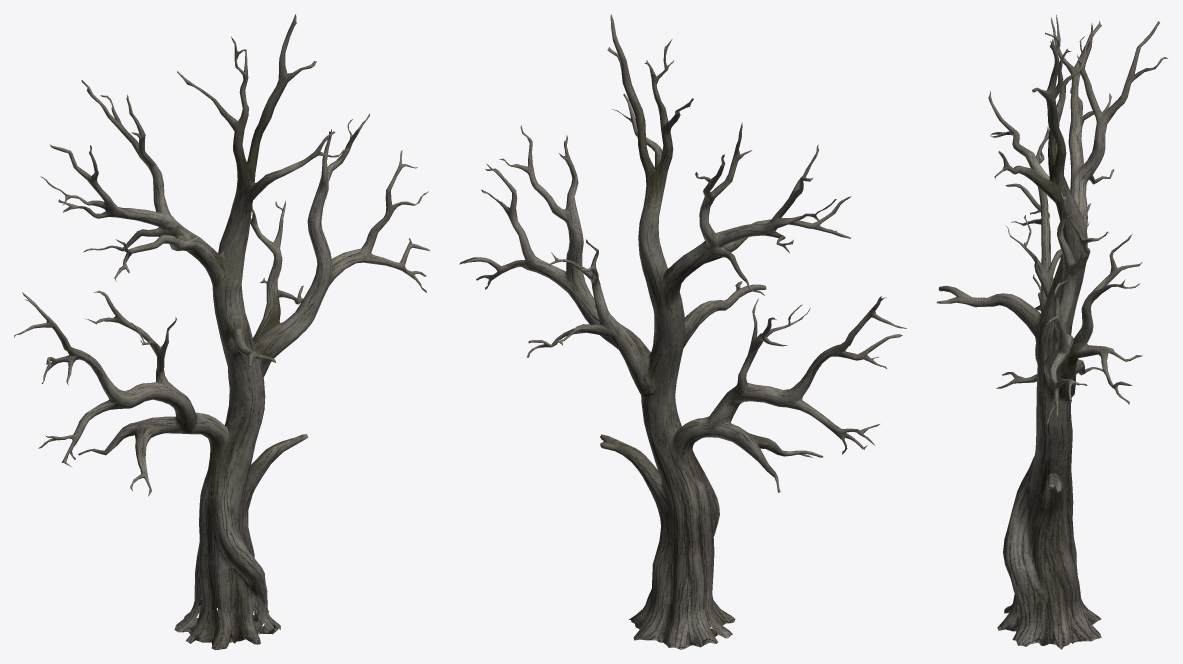
The model's file is tree_dead.glb.
The picture shows the model from 3 angles, left to right: view 1: azimuth 30°, elevation 25°; view 2: azimuth 150°, elevation 25°; view 3: azimuth 270°, elevation 25°; orthographic projection. The views are drawn at different scales.
Size of the model in its own units: 0.752 by 0.9944 by 0.3351.
1 material, 1 textured.
